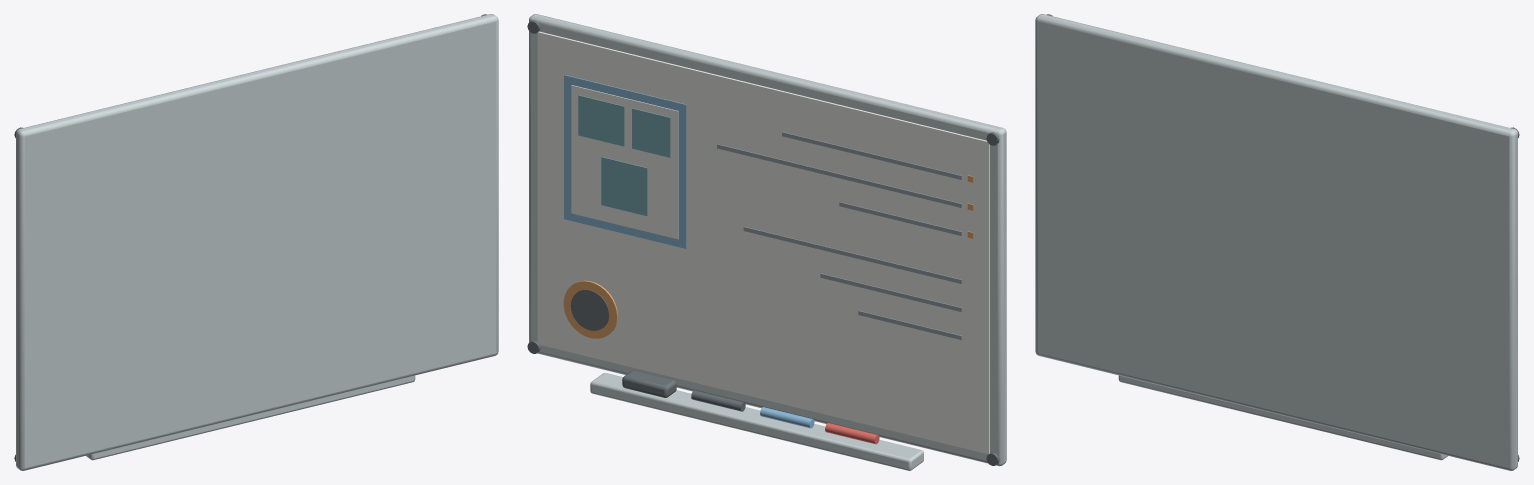
The model's file is wall_whiteboard.glb.
3 renders of one model, left to right at view 1: azimuth 30°, elevation 25°; view 2: azimuth 150°, elevation 25°; view 3: azimuth 330°, elevation 25°, orthographic.
Visible parts, largest first — view 1: frame_alloy, marker_tray_alloy; view 2: board_white_painted, frame_alloy, diagram_inner_white_painted, marker_tray_alloy, diagram_rooms_teal, writing_slate_panel, diagram_cool_blue, markers_cool_blue, mission_patch_orange, mission_patch_inner_graphite, eraser_graphite, corner_caps_graphite; view 3: frame_alloy, marker_tray_alloy.
Boxes of the visible parts, x1,y1,x2,y2 form: frame_alloy: (16, 14, 498, 470); marker_tray_alloy: (86, 375, 415, 460); board_white_painted: (537, 31, 989, 454); frame_alloy: (529, 14, 1006, 466); diagram_inner_white_painted: (571, 85, 678, 239); marker_tray_alloy: (590, 373, 923, 470); diagram_rooms_teal: (578, 95, 670, 215); writing_slate_panel: (717, 132, 962, 340); diagram_cool_blue: (564, 75, 686, 248); markers_cool_blue: (691, 390, 879, 444); mission_patch_orange: (563, 280, 617, 338); mission_patch_inner_graphite: (570, 289, 609, 330); eraser_graphite: (622, 370, 676, 397); corner_caps_graphite: (527, 20, 999, 465); frame_alloy: (1035, 14, 1517, 470); marker_tray_alloy: (1118, 375, 1447, 460).
Size of the model in its own units: 1.24 by 0.87 by 0.095.
